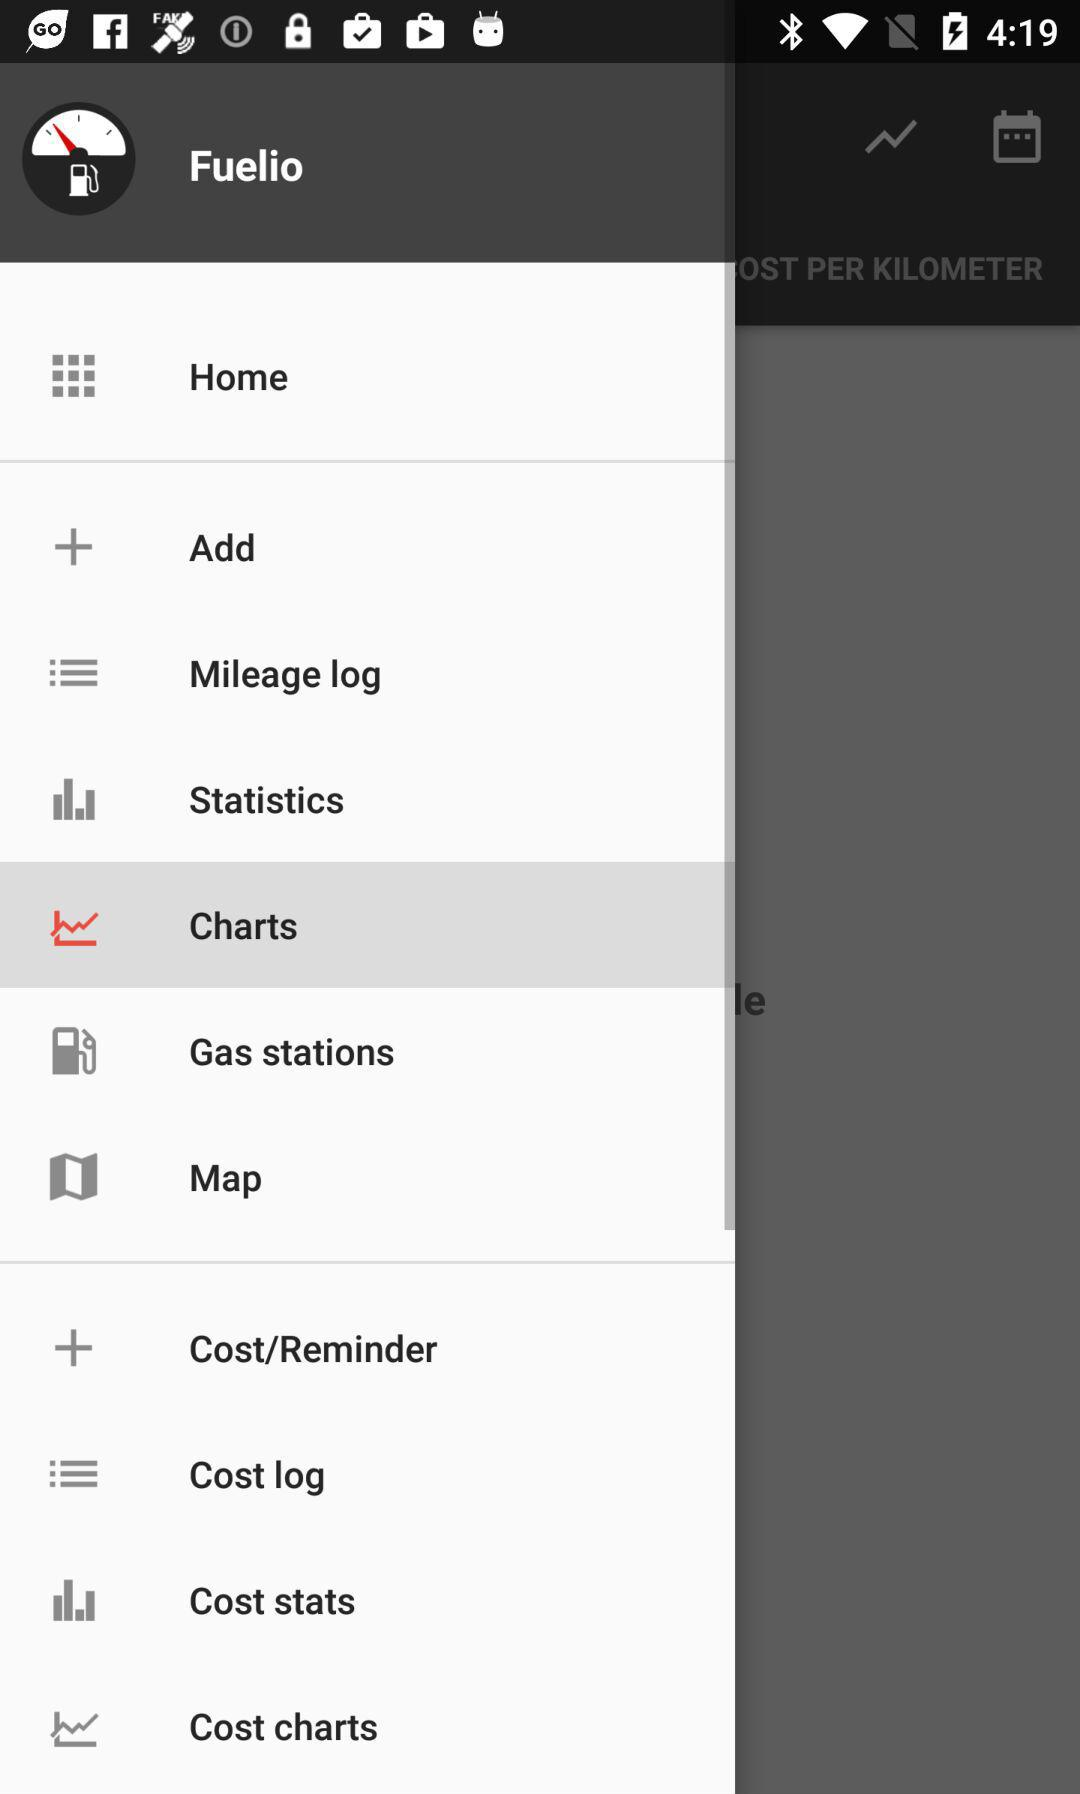Drawer: (1, 63, 735, 1794)
Icon: (992, 109, 1043, 165), (49, 1152, 99, 1202), (53, 354, 97, 399), (53, 1577, 97, 1622), (50, 1709, 101, 1748), (53, 778, 97, 821), (50, 910, 100, 948), (49, 657, 100, 689), (55, 527, 94, 568), (55, 1328, 94, 1369), (49, 1460, 100, 1489)
Image: (22, 103, 137, 218), (53, 1026, 97, 1076), (865, 120, 917, 156)
Text: (740, 256, 1045, 284), (190, 1333, 439, 1365), (190, 657, 382, 697), (190, 1711, 379, 1743), (190, 1038, 395, 1067), (190, 1586, 356, 1617), (190, 1460, 325, 1497), (190, 786, 345, 816), (190, 147, 305, 185), (190, 910, 299, 942), (187, 361, 290, 393), (191, 1164, 263, 1201), (190, 532, 256, 564)
UpperTaskBar: (1, 1, 1080, 64)
